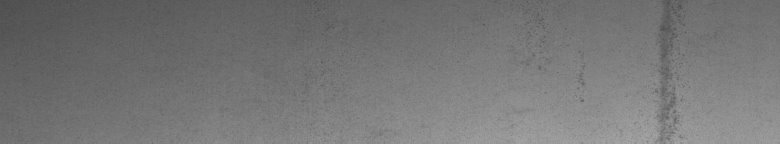ib: (521, 20, 585, 102)
